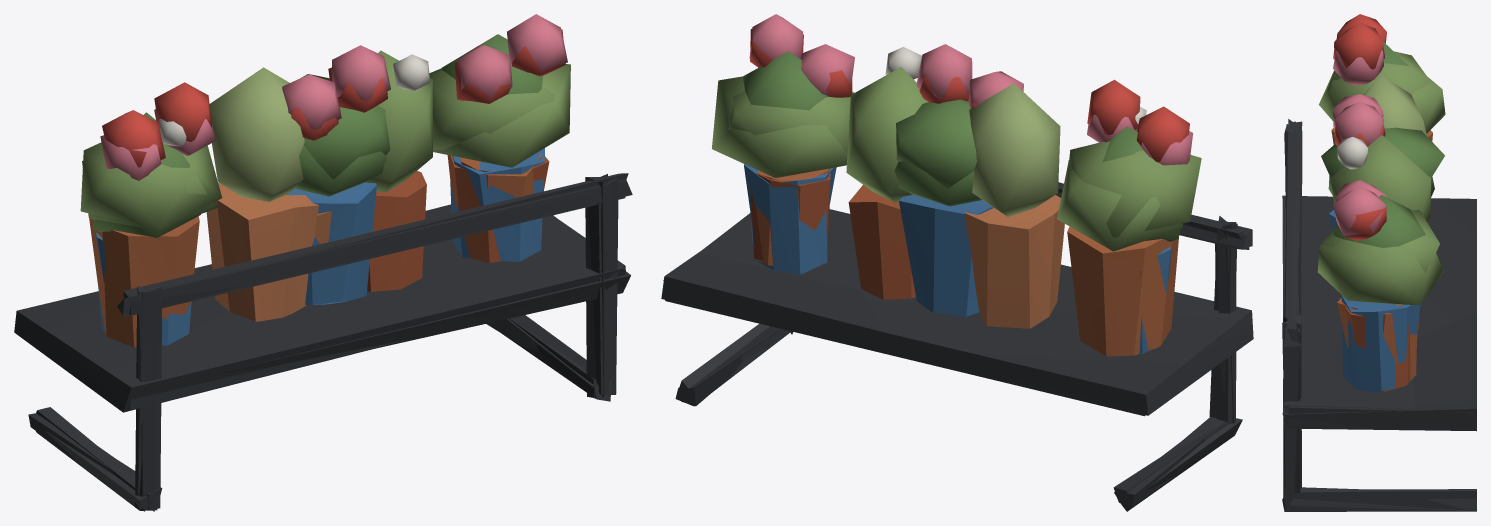
The model's file is flowerbox.glb.
3 renders of one model, left to right at view 1: azimuth 30°, elevation 25°; view 2: azimuth 150°, elevation 25°; view 3: azimuth 270°, elevation 25°, orthographic. The views are drawn at different scales.
Parts seen in each view (by area): view 1: flowerbox.v1.mesh, flowerbox.v0.mesh, flowerbox.v2.mesh; view 2: flowerbox.v1.mesh, flowerbox.v0.mesh, flowerbox.v2.mesh; view 3: flowerbox.v1.mesh, flowerbox.v2.mesh, flowerbox.v0.mesh.
Part boxes in pixels (box(x1,y1,x2,y2)): flowerbox.v1.mesh: box(14, 14, 625, 511); flowerbox.v0.mesh: box(16, 29, 632, 511); flowerbox.v2.mesh: box(36, 34, 630, 510); flowerbox.v1.mesh: box(667, 14, 1253, 506); flowerbox.v0.mesh: box(663, 29, 1252, 506); flowerbox.v2.mesh: box(661, 47, 1244, 511); flowerbox.v1.mesh: box(1282, 39, 1476, 510); flowerbox.v2.mesh: box(1282, 41, 1476, 502); flowerbox.v0.mesh: box(1282, 14, 1476, 511).
Size of the model in its own units: 0.6922 by 0.4976 by 0.2667.
